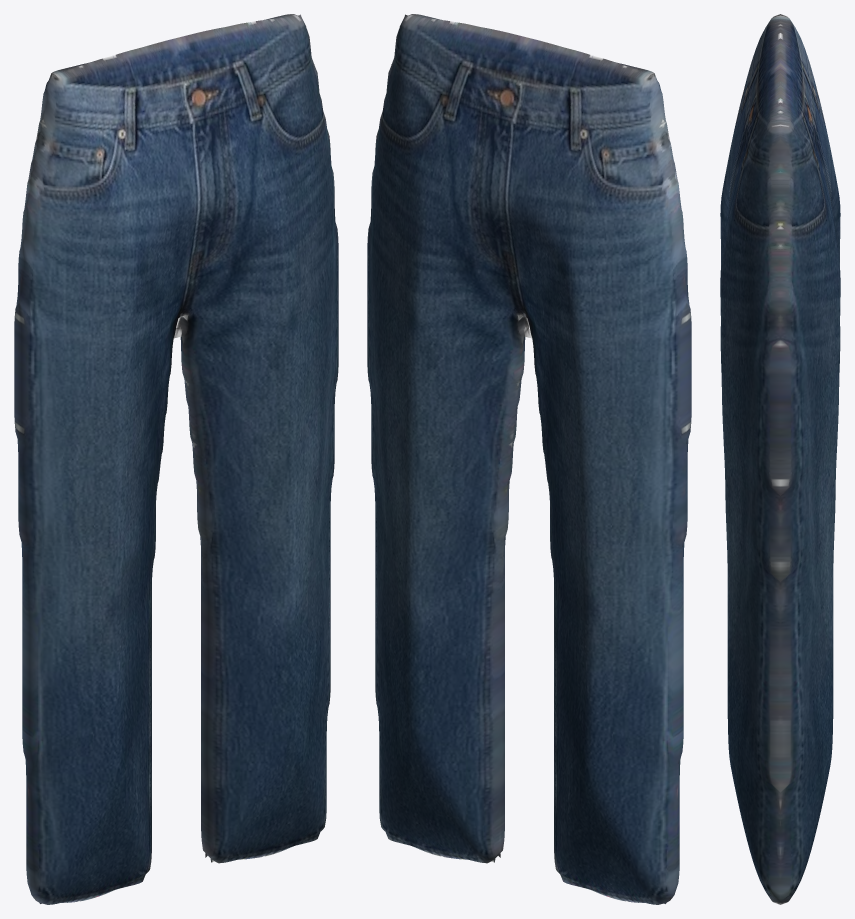
The model's file is prod-ae-vintage-wide-denim.glb.
3 renders of one model, left to right at view 1: azimuth 30°, elevation 25°; view 2: azimuth 150°, elevation 25°; view 3: azimuth 270°, elevation 25°, orthographic. The views are drawn at different scales.
Parts seen in each view (by area): view 1: prod-ae-vintage-wide-denim_standalone; view 2: prod-ae-vintage-wide-denim_standalone; view 3: prod-ae-vintage-wide-denim_standalone.
Part boxes in pixels (x1=…): prod-ae-vintage-wide-denim_standalone: x1=14, y1=14, x2=338, y2=904; prod-ae-vintage-wide-denim_standalone: x1=367, y1=14, x2=691, y2=904; prod-ae-vintage-wide-denim_standalone: x1=720, y1=14, x2=840, y2=904.
Size of the model in its own units: 0.3056 by 0.779 by 0.1083.
Materials: 1 (1 with a texture image).
